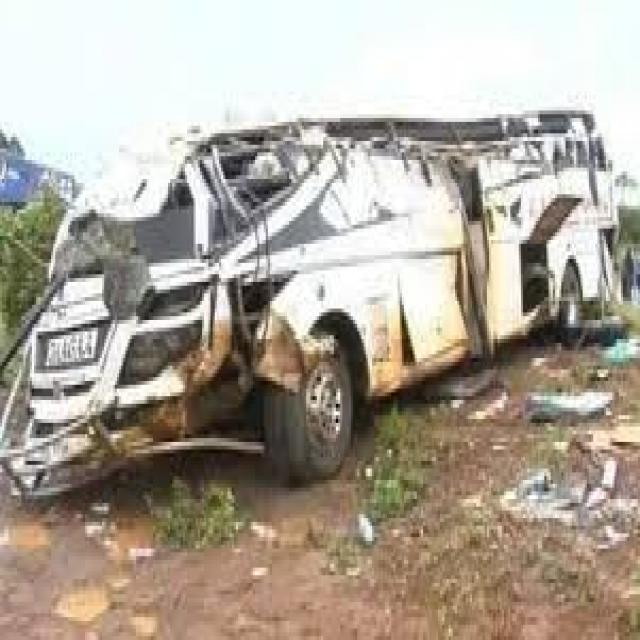accident: (4, 114, 640, 480)
